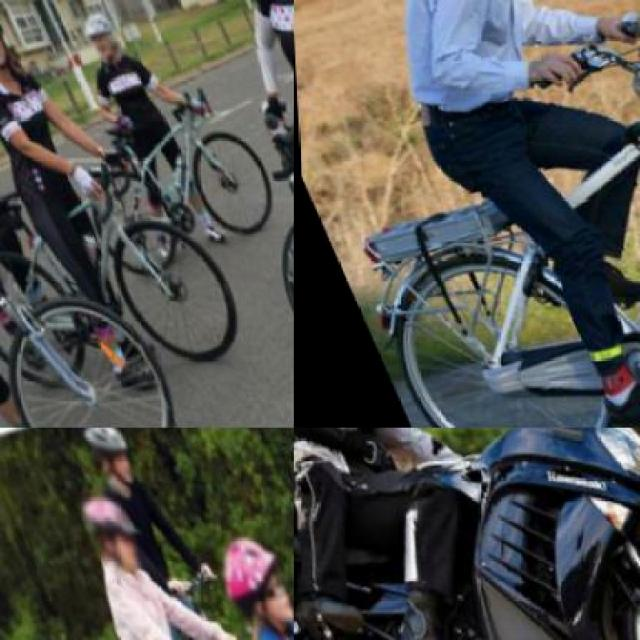With Helmet: (195, 506, 292, 639), (69, 473, 151, 579), (72, 428, 142, 490), (68, 0, 129, 65), (0, 0, 26, 82)
